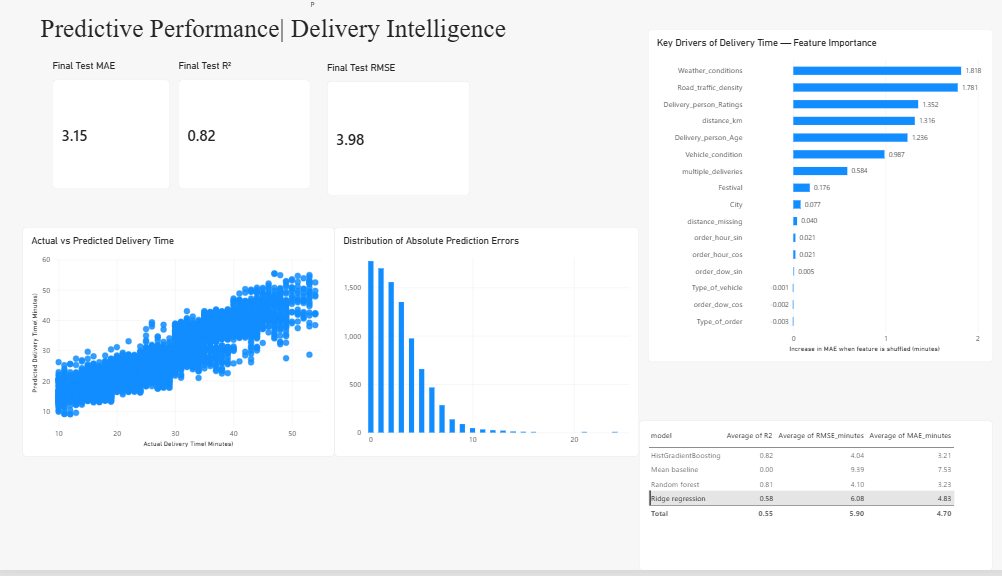

This screenshot's page, from the dashboard's own definition file:
{"tool":"powerbi","page":{"name":"Page 2","canvas":[1920,1080],"ordinal":1},"visuals":[{"type":"scatterChart","title":"Actual vs Predicted Delivery Time","fields":{"Category":["fulfillment_pulse_test_predictions.Test Record ID"],"X":["Sum(fulfillment_pulse_test_predictions.Actual Delivery Time)"],"Y":["Sum(fulfillment_pulse_test_predictions.Predicted Delivery Time)"]},"box":[53.9,430.9,589.6,433.7],"z":0},{"type":"clusteredColumnChart","title":"Distribution of Absolute Prediction Errors","fields":{"Category":["fulfillment_pulse_test_predictions.Prediction Error Bins"],"Y":["CountNonNull(fulfillment_pulse_test_predictions.Test Record ID)"]},"box":[643.5,430.9,575.4,433.7],"z":1},{"type":"clusteredBarChart","title":"Key Drivers of Delivery Time — Feature Importance","fields":{"Category":["fulfillment_pulse_permutation_importance.feature"],"Y":["Sum(fulfillment_pulse_permutation_importance.importance_mean)"]},"box":[1235.9,56.7,652,629.3],"z":2},{"type":"cardVisual","title":"\tFinal Test MAE","fields":{"Data":["Avg(fulfillment_pulse_model_metrics.test_MAE_minutes)"]},"box":[110.6,116.2,222.6,243],"z":5},{"type":"cardVisual","title":"Final Test RMSE","fields":{"Data":["Avg(fulfillment_pulse_model_metrics.test_RMSE_minutes)"]},"box":[629.3,119.1,270.3,252.1],"z":6},{"type":"cardVisual","title":"\tFinal Test R²","fields":{"Data":["Avg(fulfillment_pulse_model_metrics.test_R2)"]},"box":[348.7,116.2,249.8,243],"z":7},{"type":"textbox","box":[597.4,0,742.7,240.8],"z":8},{"type":"textbox","box":[88.6,29.5,1251.5,118.1],"z":9},{"type":"tableEx","fields":{"Values":["fulfillment_pulse_validation_comparison.model","Avg(fulfillment_pulse_validation_comparison.R2)","Avg(fulfillment_pulse_validation_comparison.RMSE_minutes)","Avg(fulfillment_pulse_validation_comparison.MAE_minutes)"]},"box":[1218.9,796.5,669,283.5],"z":10}]}

Visuals, with their boxes in screenshot pixels (x1, y1, x2, y2), scaled from the page's 1920x1080 canvas onto the 1002x576 screenshot:
"Actual vs Predicted Delivery Time" scatterChart: {"left": 28, "top": 230, "right": 336, "bottom": 461}
"Distribution of Absolute Prediction Errors" clusteredColumnChart: {"left": 336, "top": 230, "right": 636, "bottom": 461}
"Key Drivers of Delivery Time — Feature Importance" clusteredBarChart: {"left": 645, "top": 30, "right": 985, "bottom": 366}
"	Final Test MAE" cardVisual: {"left": 58, "top": 62, "right": 174, "bottom": 192}
"Final Test RMSE" cardVisual: {"left": 328, "top": 64, "right": 469, "bottom": 198}
"	Final Test R²" cardVisual: {"left": 182, "top": 62, "right": 312, "bottom": 192}
textbox: {"left": 312, "top": 0, "right": 699, "bottom": 128}
textbox: {"left": 46, "top": 16, "right": 699, "bottom": 79}
tableEx - fulfillment_pulse_validation_comparison.model x Avg(fulfillment_pulse_validation_comparison.R2): {"left": 636, "top": 425, "right": 985, "bottom": 575}
